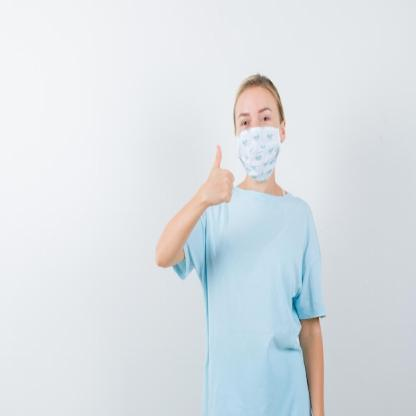thumb_up: (201, 140, 237, 210)
